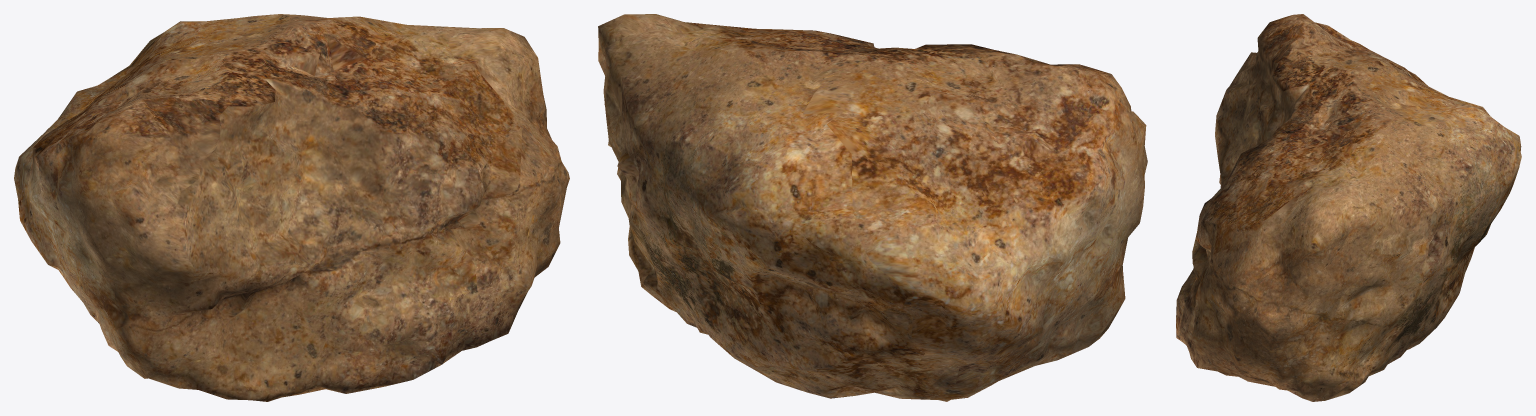
Rendered from rock_2K_bf18f3e1-4f7c-457d-b70a-56315998a211.dae.
3 renders of one model, left to right at view 1: azimuth 30°, elevation 25°; view 2: azimuth 150°, elevation 25°; view 3: azimuth 270°, elevation 25°, orthographic. The views are drawn at different scales.
Visible parts, largest first — view 1: Rock; view 2: Rock; view 3: Rock.
Part boxes in pixels (x1,y1,x2,y2): Rock: (14,14,569,401); Rock: (598,14,1147,401); Rock: (1176,14,1521,401).
Size of the model in its own units: 0.2869 by 0.2124 by 0.1672.
